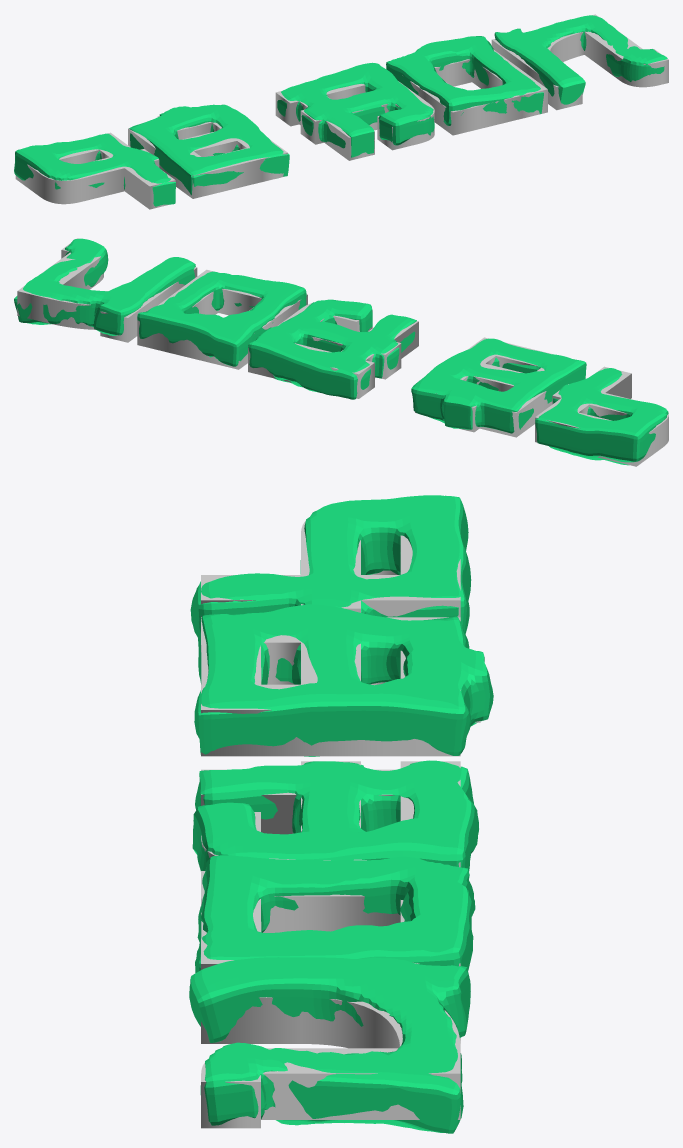
The model's file is 98boon.glb.
3 views of the same model, one above another, from view 1: azimuth 30°, elevation 25°; view 2: azimuth 150°, elevation 25°; view 3: azimuth 270°, elevation 25° (orthographic). The views are drawn at different scales.
Parts seen in each view (by area): view 1: 98 bon, Text; view 2: 98 bon, Text; view 3: 98 bon, Text.
Boxes of the visible parts, box(x1,y1,x2,y2) form: 98 bon: box(14, 15, 667, 206); Text: box(15, 14, 668, 209); 98 bon: box(14, 238, 668, 465); Text: box(17, 238, 668, 466); 98 bon: box(189, 495, 493, 1133); Text: box(201, 521, 480, 1128).
Size of the model in its own units: 4.29 by 0.3227 by 0.9527.
